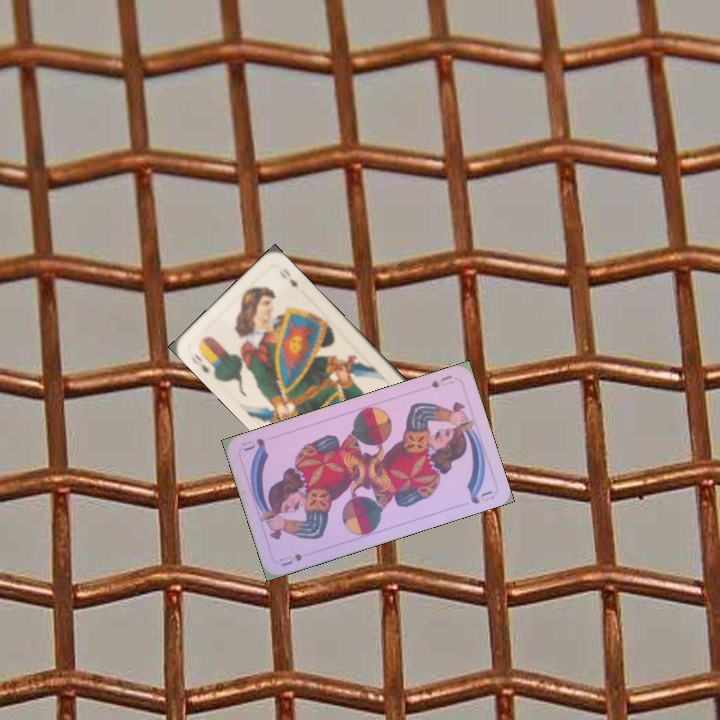EO: (190, 344, 218, 378)
SU: (427, 371, 456, 391), (276, 550, 305, 569)
